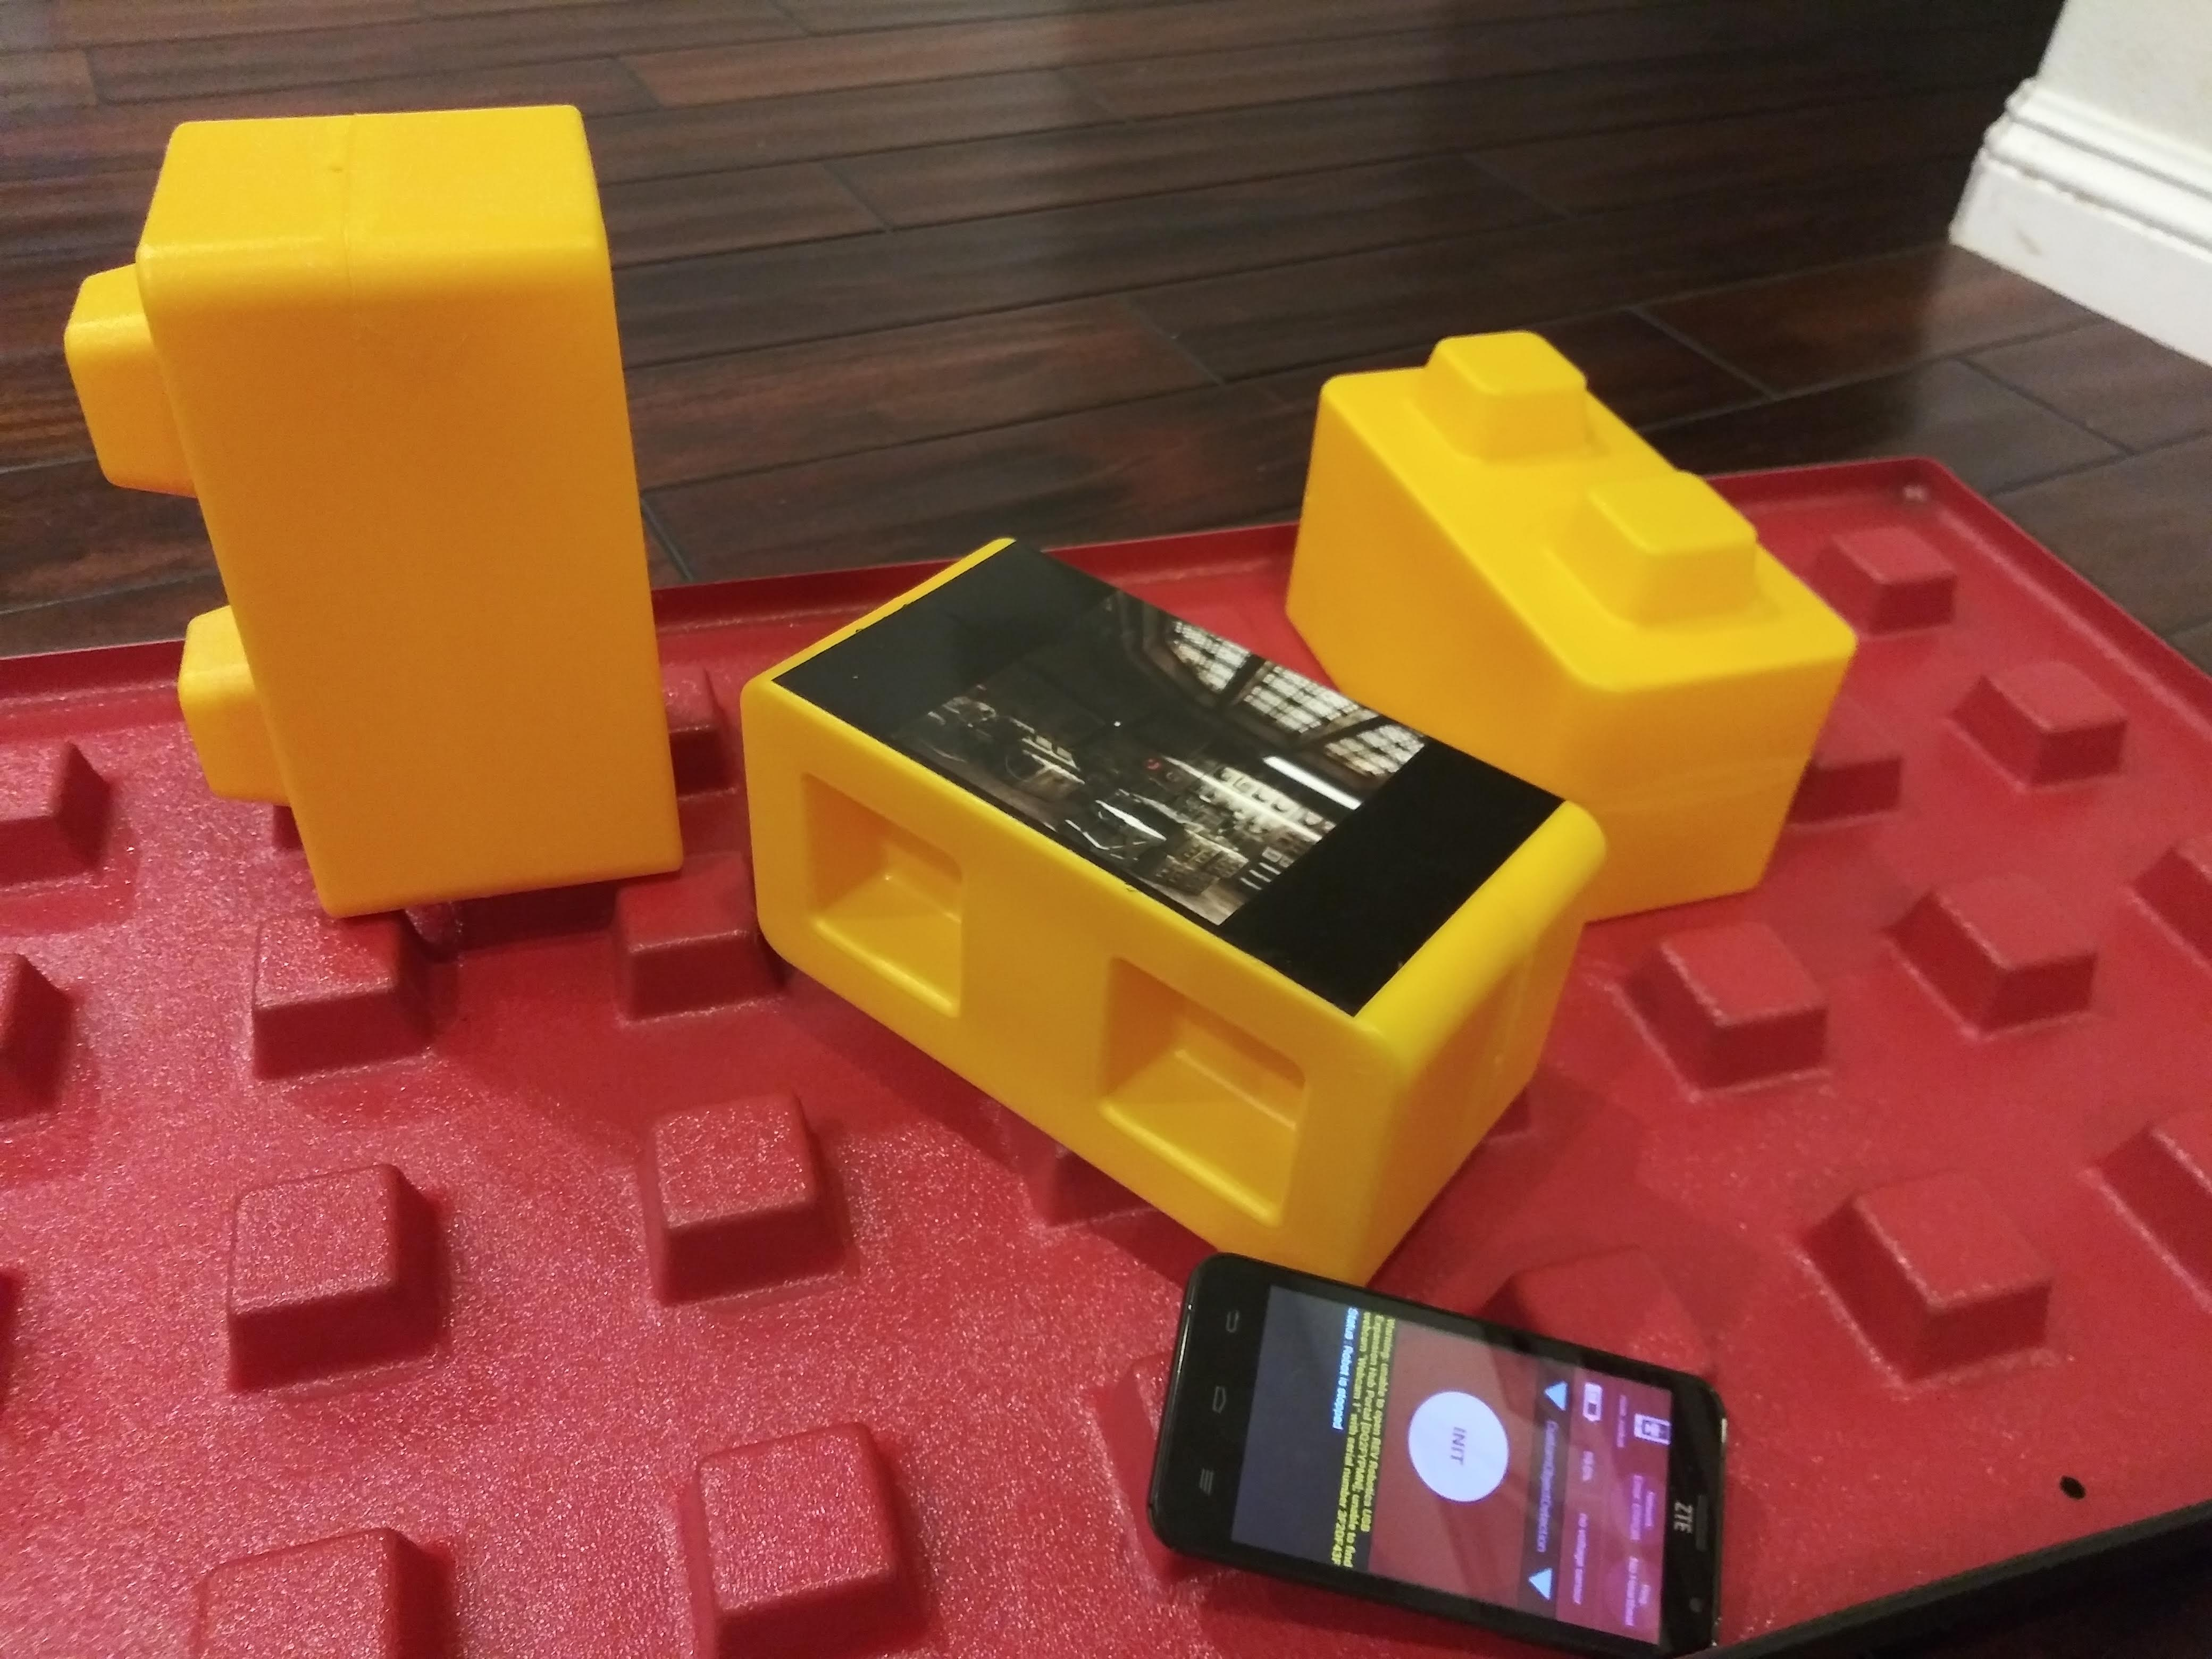skystone: (725, 599, 1599, 1246)
stone: (68, 134, 685, 897), (1280, 355, 1846, 739)
